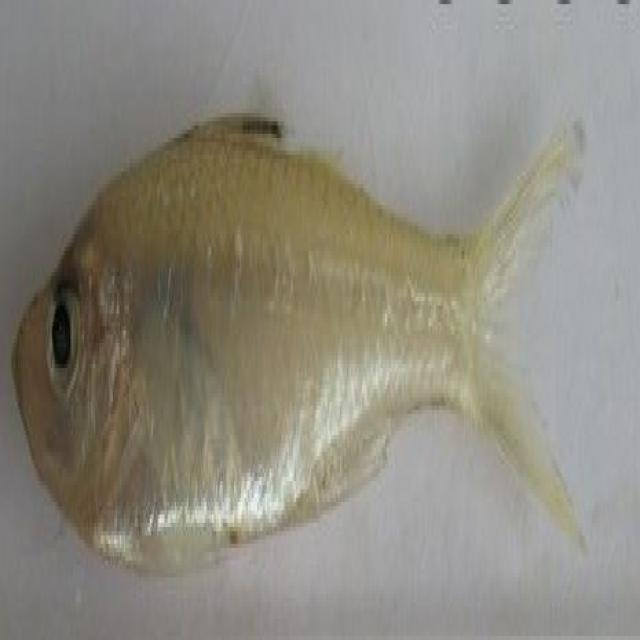Glass-Perchlet: (8, 19, 591, 592)
